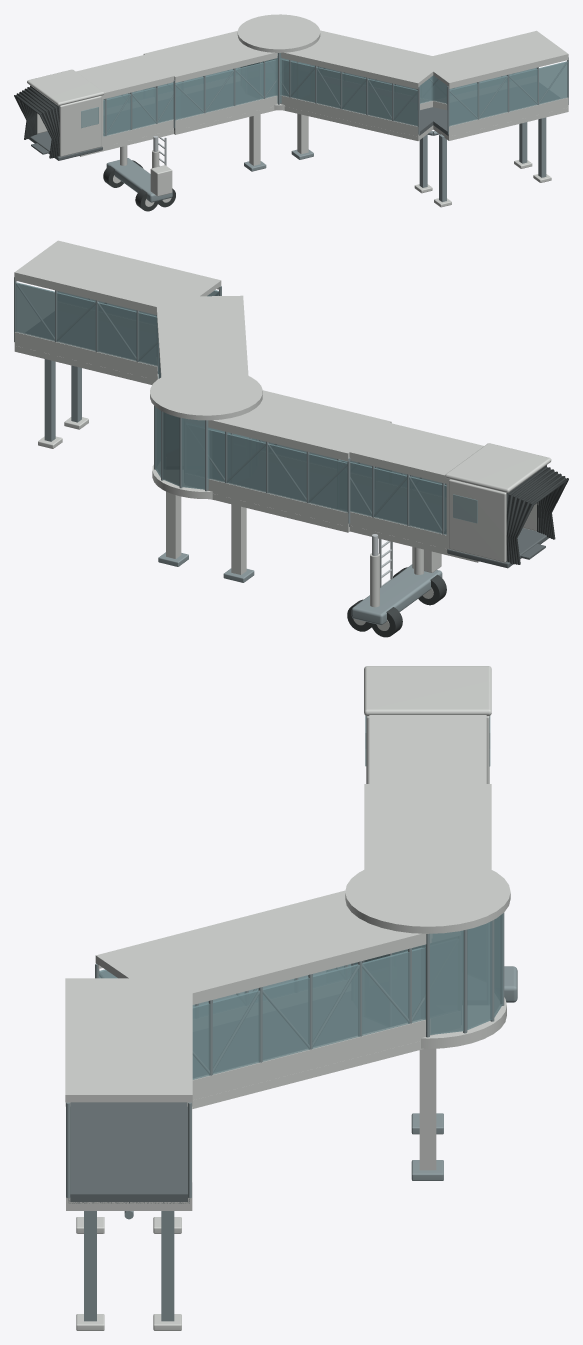
File: bridge.glb
The picture shows the model from 3 angles, top to bottom: view 1: azimuth 30°, elevation 25°; view 2: azimuth 150°, elevation 25°; view 3: azimuth 270°, elevation 25°; orthographic projection. The views are drawn at different scales.
Parts seen in each view (by area): view 1: Bridge_fixed_corner_corridor_Bridge_painted_panels_batch, Bridge_fixed_elevated_corridor_Bridge_painted_panels_batch, Bridge_fixed_corner_corridor_Bridge_glass_batch, Bridge_outer_tunnel_Bridge_painted_panels_batch, Bridge_fixed_elevated_corridor_Bridge_glass_batch, Bridge_rotating_docking_cab_PIVOT_Bridge_painted_panels_batc, Bridge_outer_tunnel_Bridge_glass_batch, Bridge_fixed_rotunda_PIVOT_Bridge_painted_panels_batch, Bridge_inner_telescopic_tunnel_Bridge_painted_panels_batch, Bridge_fixed_elevated_corridor_Bridge_structural_steel_batch, Bridge_inner_telescopic_tunnel_Bridge_glass_batch, Bridge_rotating_docking_cab_PIVOT_Bridge_bellows_rubber_batc (+10 smaller); view 2: Bridge_fixed_elevated_corridor_Bridge_painted_panels_batch, Bridge_outer_tunnel_Bridge_painted_panels_batch, Bridge_rotating_docking_cab_PIVOT_Bridge_painted_panels_batc, Bridge_fixed_rotunda_PIVOT_Bridge_painted_panels_batch, Bridge_fixed_elevated_corridor_Bridge_glass_batch, Bridge_inner_telescopic_tunnel_Bridge_painted_panels_batch, Bridge_outer_tunnel_Bridge_glass_batch, Bridge_fixed_corner_corridor_Bridge_painted_panels_batch, Bridge_inner_telescopic_tunnel_Bridge_glass_batch, Bridge_fixed_rotunda_PIVOT_Bridge_glass_batch, Bridge_rotating_docking_cab_PIVOT_Bridge_bellows_rubber_batc, Bridge_fixed_elevated_corridor_Bridge_structural_steel_batch (+8 smaller); view 3: Bridge_fixed_corner_corridor_Bridge_painted_panels_batch, Bridge_fixed_elevated_corridor_Bridge_painted_panels_batch, Bridge_fixed_corner_corridor_Bridge_glass_batch, Bridge_fixed_rotunda_PIVOT_Bridge_painted_panels_batch, Bridge_fixed_elevated_corridor_floor, Bridge_inner_telescopic_tunnel_Bridge_painted_panels_batch, Bridge_outer_tunnel_Bridge_painted_panels_batch, Bridge_fixed_rotunda_PIVOT_Bridge_glass_batch, Bridge_rotating_docking_cab_PIVOT_Bridge_painted_panels_batc, Bridge_fixed_elevated_corridor_Bridge_structural_steel_batch, Bridge_fixed_corner_corridor_Bridge_structural_steel_batch, Bridge_fixed_rotunda_PIVOT_Bridge_structural_steel_batch.
Part boxes in pixels (bbox=[...]): Bridge_fixed_corner_corridor_Bridge_painted_panels_batch: bbox=[280, 30, 447, 140]; Bridge_fixed_elevated_corridor_Bridge_painted_panels_batch: bbox=[414, 30, 568, 207]; Bridge_fixed_corner_corridor_Bridge_glass_batch: bbox=[280, 59, 446, 126]; Bridge_outer_tunnel_Bridge_painted_panels_batch: bbox=[143, 31, 277, 134]; Bridge_fixed_elevated_corridor_Bridge_glass_batch: bbox=[419, 61, 567, 126]; Bridge_rotating_docking_cab_PIVOT_Bridge_painted_panels_batc: bbox=[27, 69, 104, 156]; Bridge_outer_tunnel_Bridge_glass_batch: bbox=[158, 59, 277, 120]; Bridge_fixed_rotunda_PIVOT_Bridge_painted_panels_batch: bbox=[237, 14, 320, 165]; Bridge_inner_telescopic_tunnel_Bridge_painted_panels_batch: bbox=[76, 54, 182, 156]; Bridge_fixed_elevated_corridor_Bridge_structural_steel_batch: bbox=[417, 57, 568, 201]; Bridge_inner_telescopic_tunnel_Bridge_glass_batch: bbox=[103, 81, 181, 136]; Bridge_rotating_docking_cab_PIVOT_Bridge_bellows_rubber_batc: bbox=[14, 86, 59, 158]; Bridge_fixed_elevated_corridor_Bridge_painted_panels_batch: bbox=[14, 240, 221, 448]; Bridge_outer_tunnel_Bridge_painted_panels_batch: bbox=[204, 390, 391, 532]; Bridge_rotating_docking_cab_PIVOT_Bridge_painted_panels_batc: bbox=[445, 443, 551, 562]; Bridge_fixed_rotunda_PIVOT_Bridge_painted_panels_batch: bbox=[150, 368, 262, 574]; Bridge_fixed_elevated_corridor_Bridge_glass_batch: bbox=[15, 282, 219, 366]; Bridge_inner_telescopic_tunnel_Bridge_painted_panels_batch: bbox=[338, 420, 483, 562]; Bridge_outer_tunnel_Bridge_glass_batch: bbox=[208, 429, 375, 512]; Bridge_fixed_corner_corridor_Bridge_painted_panels_batch: bbox=[156, 295, 248, 379]; Bridge_inner_telescopic_tunnel_Bridge_glass_batch: bbox=[338, 459, 446, 535]; Bridge_fixed_rotunda_PIVOT_Bridge_glass_batch: bbox=[155, 407, 257, 489]; Bridge_rotating_docking_cab_PIVOT_Bridge_bellows_rubber_batc: bbox=[506, 465, 568, 564]; Bridge_fixed_elevated_corridor_Bridge_structural_steel_batch: bbox=[14, 277, 221, 441]; Bridge_fixed_corner_corridor_Bridge_painted_panels_batch: bbox=[95, 890, 435, 1108]; Bridge_fixed_elevated_corridor_Bridge_painted_panels_batch: bbox=[65, 978, 192, 1330]; Bridge_fixed_corner_corridor_Bridge_glass_batch: bbox=[99, 947, 425, 1079]; Bridge_fixed_rotunda_PIVOT_Bridge_painted_panels_batch: bbox=[345, 857, 510, 1170]; Bridge_fixed_elevated_corridor_floor: bbox=[68, 1102, 189, 1203]; Bridge_inner_telescopic_tunnel_Bridge_painted_panels_batch: bbox=[369, 715, 486, 792]; Bridge_outer_tunnel_Bridge_painted_panels_batch: bbox=[364, 784, 491, 869]; Bridge_fixed_rotunda_PIVOT_Bridge_glass_batch: bbox=[352, 913, 503, 1034]; Bridge_rotating_docking_cab_PIVOT_Bridge_painted_panels_batc: bbox=[364, 666, 491, 783]; Bridge_fixed_elevated_corridor_Bridge_structural_steel_batch: bbox=[66, 1102, 191, 1321]; Bridge_fixed_corner_corridor_Bridge_structural_steel_batch: bbox=[95, 948, 424, 1075]; Bridge_fixed_rotunda_PIVOT_Bridge_structural_steel_batch: bbox=[351, 912, 504, 1180].
Size of the model in its own units: 22.72 by 6.22 by 9.84.
